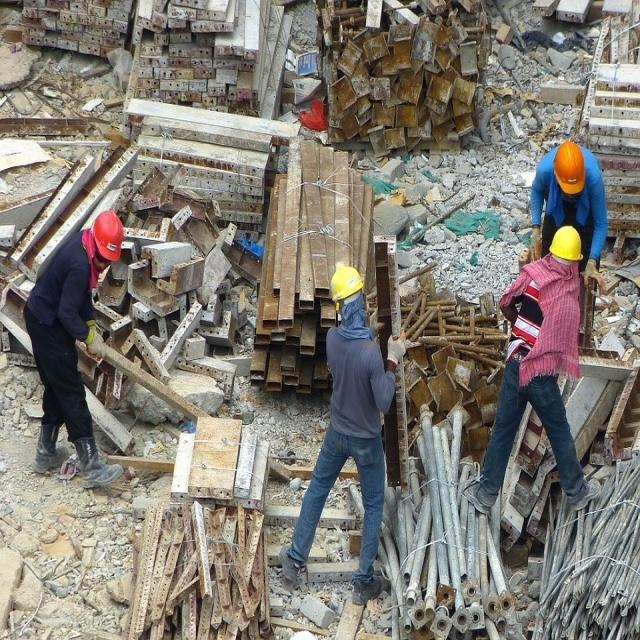helmet: (327, 352, 367, 428), (90, 278, 126, 362), (553, 186, 587, 266), (550, 294, 583, 369)
